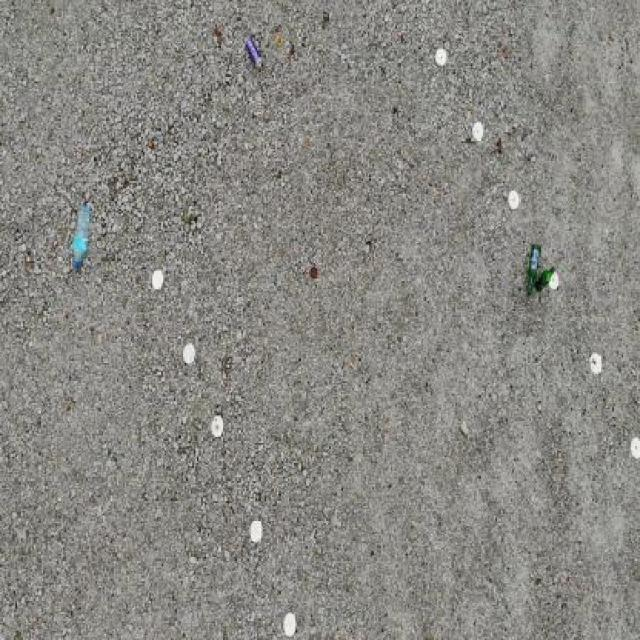Garbage: (72, 205, 90, 268), (242, 35, 264, 68), (533, 268, 555, 294), (529, 243, 540, 294), (310, 268, 318, 279)
